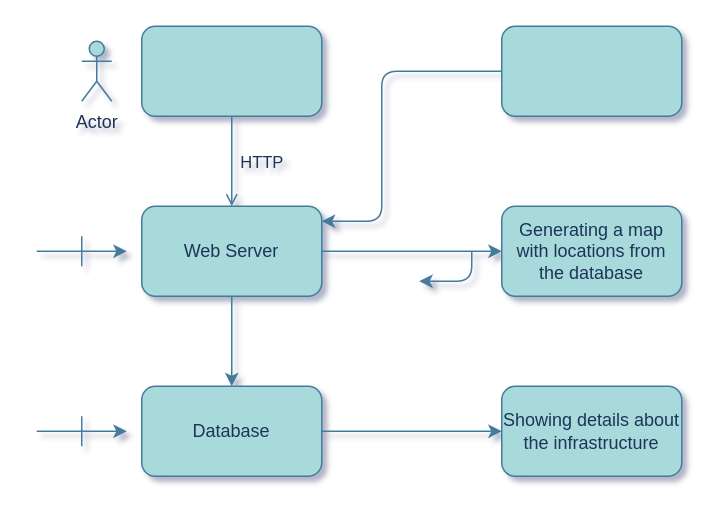
The diagram is 717 pixels wide and 512 high, and some of its shapes have lost their labels. The centre of each missing label's shape, as x and y in pixels:
"AppUI" belongs at pixel 231 70.
"Searching infrastructure by name/category" belongs at pixel 591 70.
